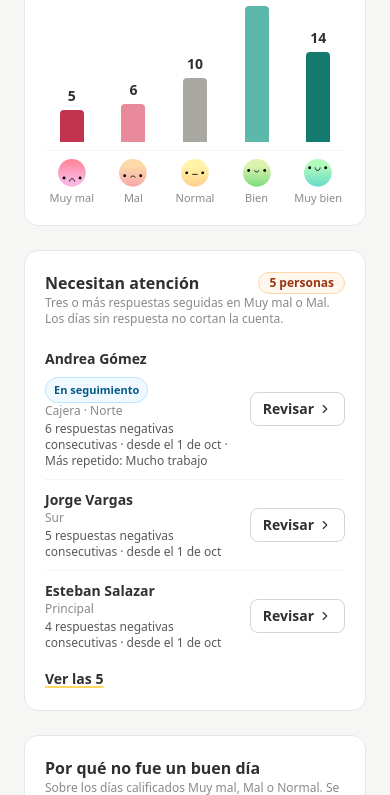
Test: resumen › «Revisar» abre el historial de esa persona: respuestas, motivos y comentarios
(page scrolled)
Click the button with aria-label "Revisar a Andrea Gómez" at (297, 409), box [250,392,345,426]
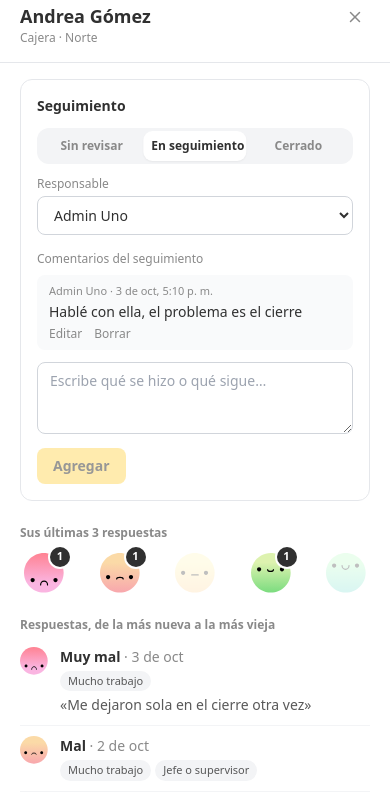
expect the text "«Me dejaron sola en el cierre otra vez»" is shown: met, box [60,695,311,715]
expect the text "Jefe o supervisor" is shown: met, box [155,760,257,780]
